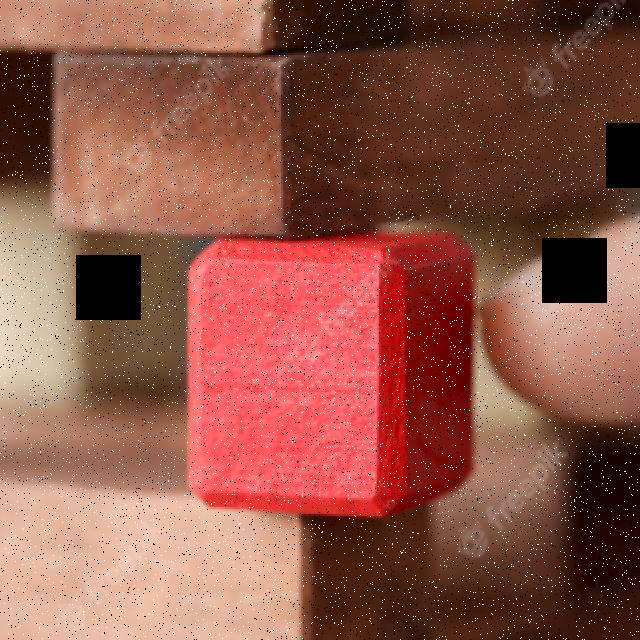red cube: (187, 228, 476, 524)
